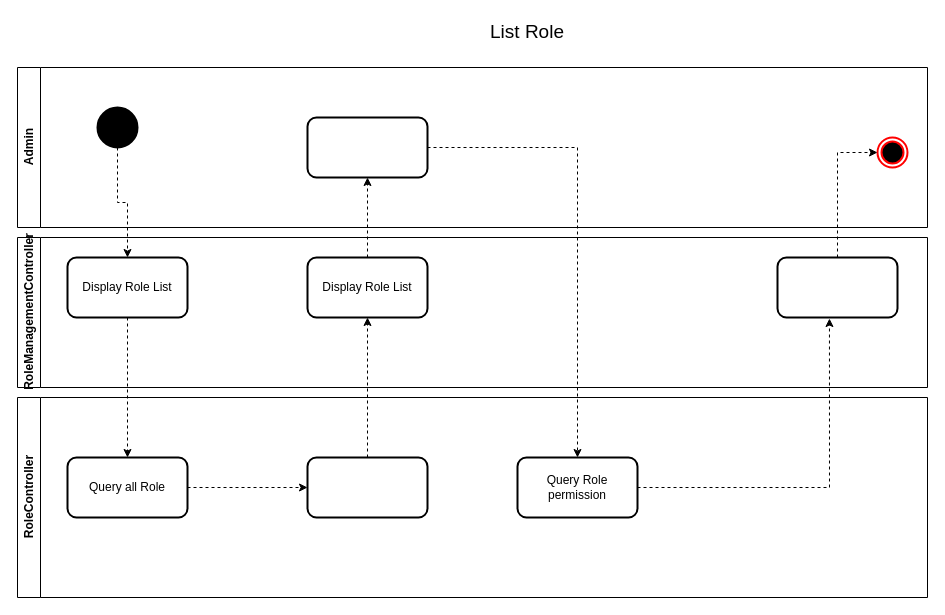
Some shapes in this 945 by 615 pixel diagram are drawn without their labels. The centre of each missing label's shape, as x and y in pixels:
"Choose a role" goes at point (367, 147).
"Choose Role page" goes at point (117, 127).
"Display Role permission" goes at point (837, 287).
"Send back Role List" goes at point (367, 487).
